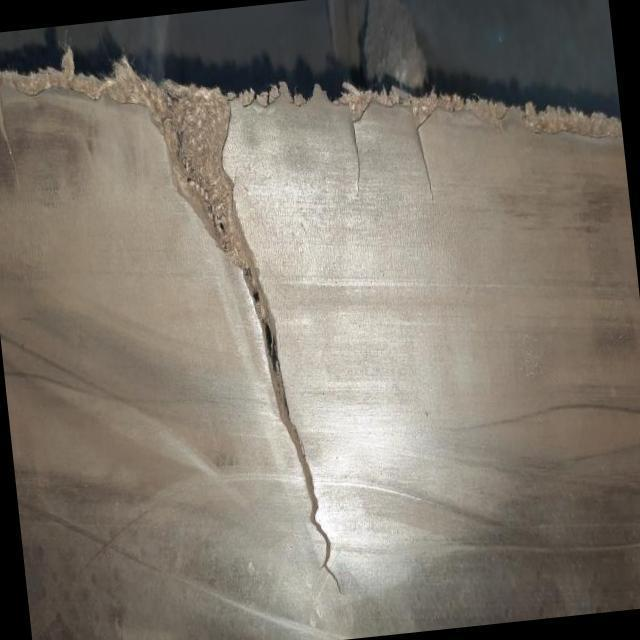Tear: (134, 72, 352, 602), (340, 95, 379, 199), (409, 103, 447, 200)
